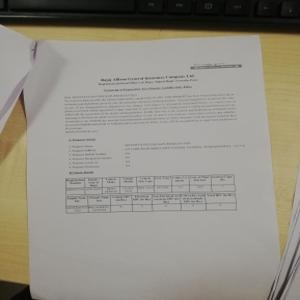table: (66, 171, 237, 211)
text: (63, 91, 236, 134), (68, 137, 246, 168), (92, 75, 202, 92)
